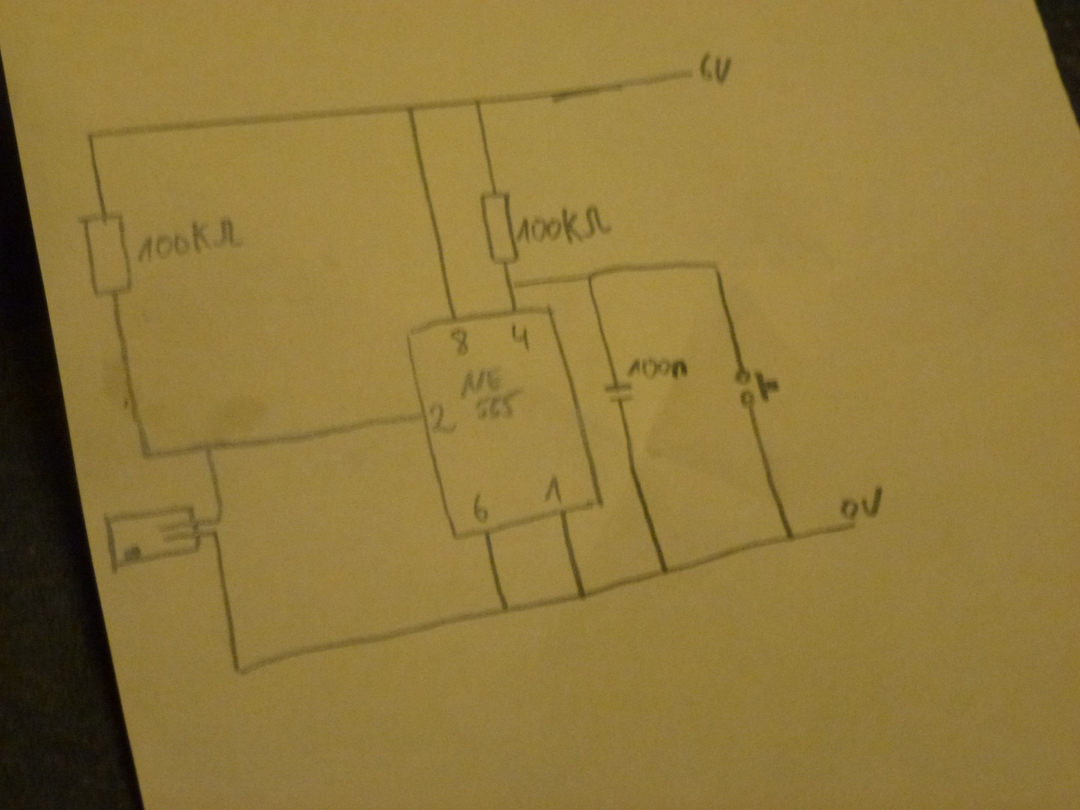capacitor.unpolarized: (605, 382, 636, 403)
integrated_cricuit.ne555: (405, 304, 604, 541)
junction: (706, 256, 727, 276), (199, 437, 220, 455), (231, 663, 251, 680), (582, 268, 600, 285), (137, 447, 157, 462), (470, 94, 488, 110), (657, 563, 674, 579), (498, 602, 515, 618), (782, 531, 799, 546), (574, 588, 592, 602), (402, 101, 418, 115), (503, 278, 518, 292), (85, 130, 98, 143), (210, 528, 224, 540), (212, 514, 223, 525)
resistor: (79, 210, 135, 301), (479, 188, 522, 267)
switch: (101, 500, 205, 575), (732, 366, 781, 407)
terminal: (842, 520, 860, 534), (682, 67, 695, 81)
text: (136, 218, 243, 263), (517, 204, 614, 245), (458, 366, 526, 420), (626, 355, 690, 380), (840, 485, 885, 520), (699, 52, 730, 86), (428, 402, 457, 436), (543, 473, 566, 506), (448, 326, 471, 357), (511, 320, 532, 352), (471, 492, 491, 524)
